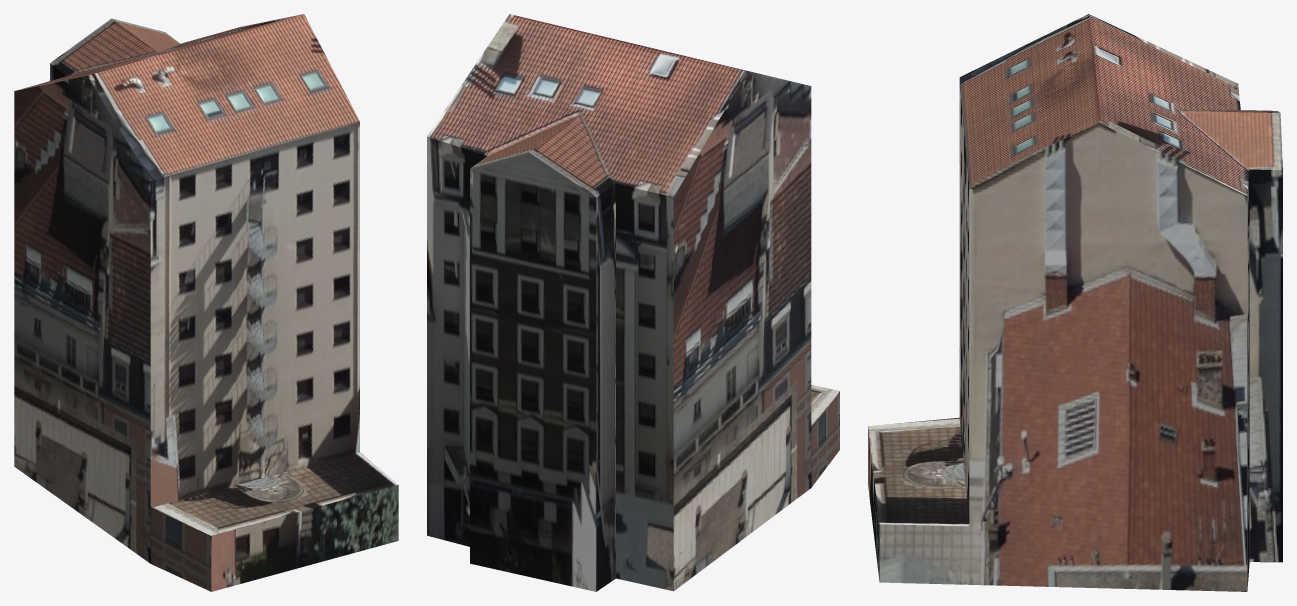
The picture shows the model from 3 angles, left to right: view 1: azimuth 30°, elevation 25°; view 2: azimuth 150°, elevation 25°; view 3: azimuth 270°, elevation 25°; orthographic projection. The views are drawn at different scales.
Visible parts, largest first — view 1: Z_UP; view 2: Z_UP; view 3: Z_UP.
Part boxes in pixels (box(x1,y1,x2,y2)): Z_UP: box(14, 14, 398, 591); Z_UP: box(427, 14, 839, 591); Z_UP: box(868, 14, 1282, 591).
Size of the model in its own units: 14.7 by 27.21 by 21.98.
2 materials, 1 textured.
